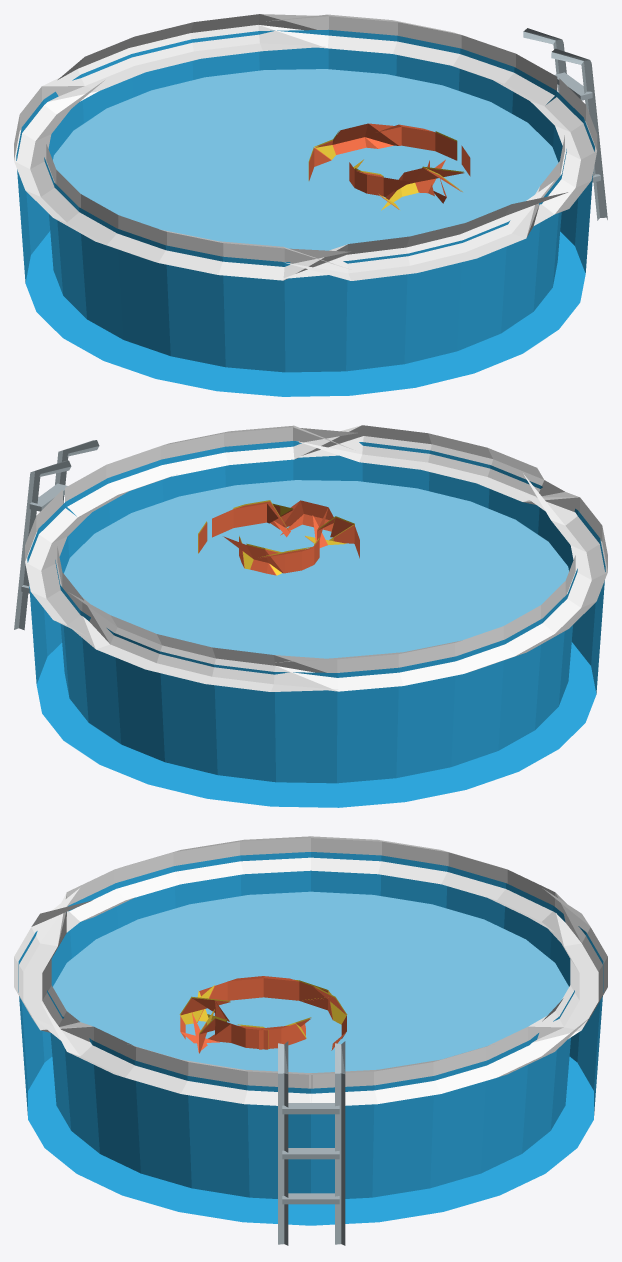
Rendered from pool.glb.
3 views of the same model, one above another, from view 1: azimuth 30°, elevation 25°; view 2: azimuth 150°, elevation 25°; view 3: azimuth 270°, elevation 25° (orthographic).
Parts seen in each view (by area): view 1: pool; view 2: pool; view 3: pool.
Boxes of the visible parts, left/top/right/bottom form: pool: left=14, top=14, right=607, bottom=396; pool: left=14, top=425, right=607, bottom=807; pool: left=14, top=836, right=607, bottom=1245.
Bounding box in the file's own units: 1.34 × 0.4314 × 1.25.
